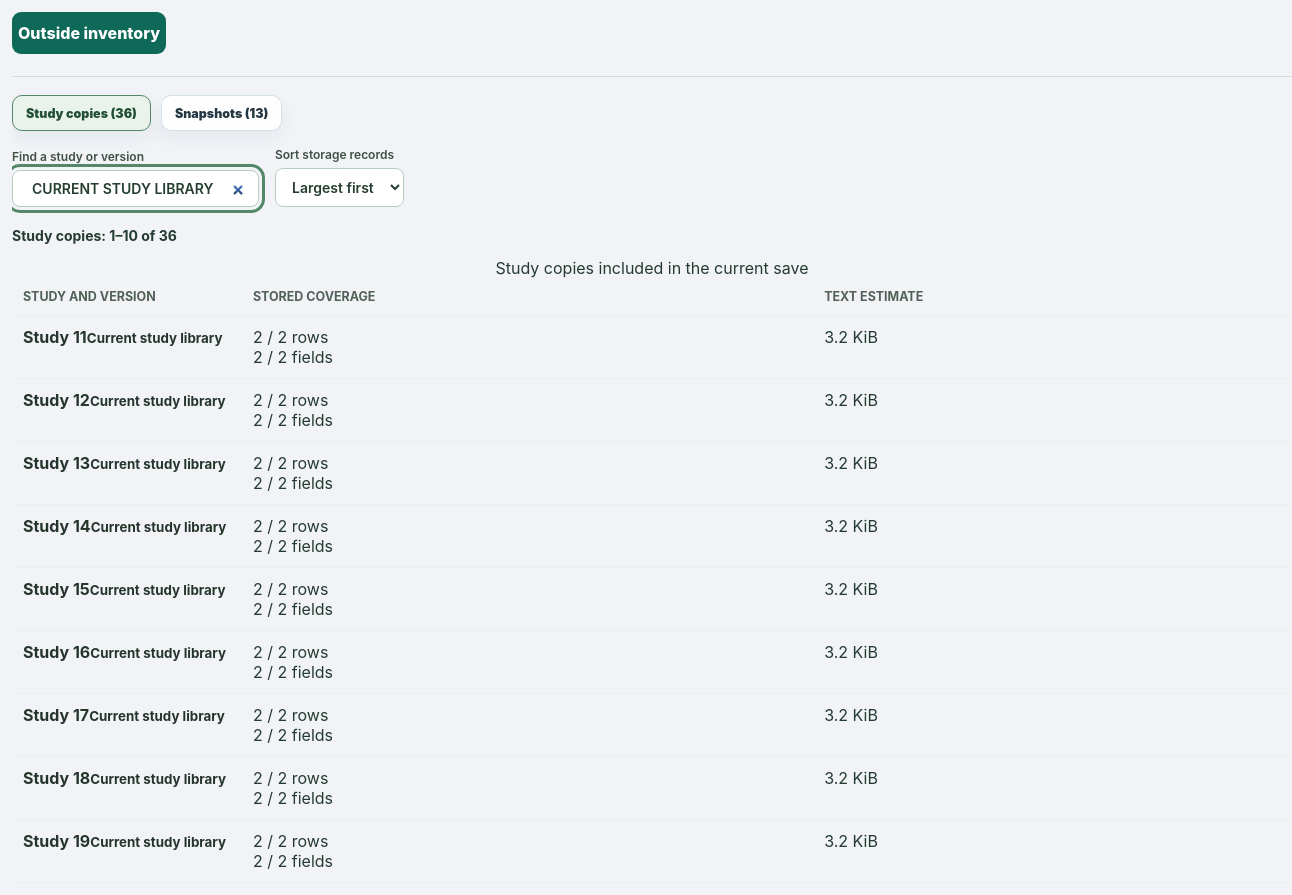
Test: filters by visible scope and pages through all current studies
This screenshot has width=1292, height=895.
Later steps or results of the test are not shown.
Replace the text in the search field labelled "Find a study or version" with "  CURRENT STUDY LIBRARY  ": (136, 188) [12, 170, 259, 207]
(page scrolled)
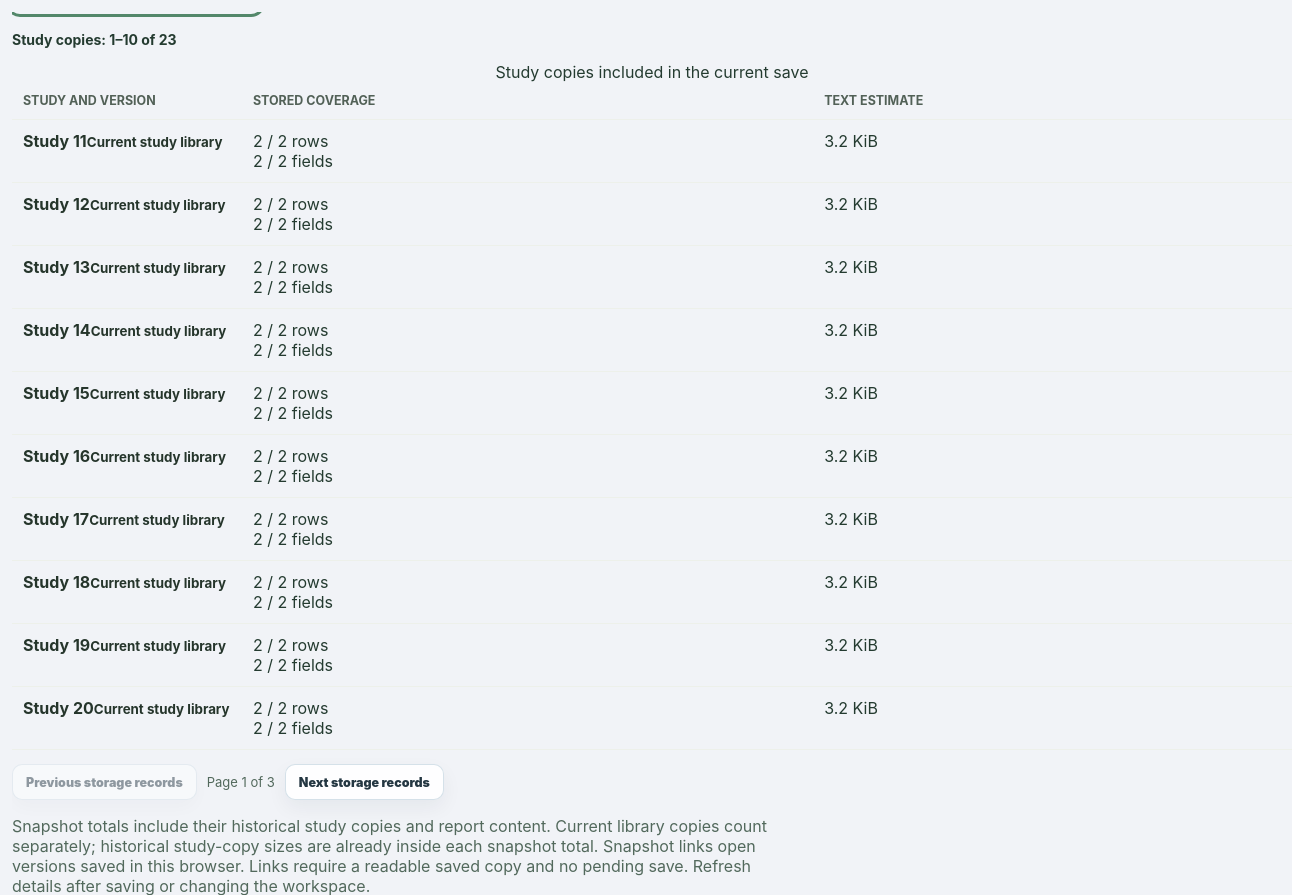
Expected: the heading "Study copies: 1–10 of 23" is shown, [12, 31, 176, 48]
Click the button "Next storage records": (364, 782) [285, 764, 444, 800]
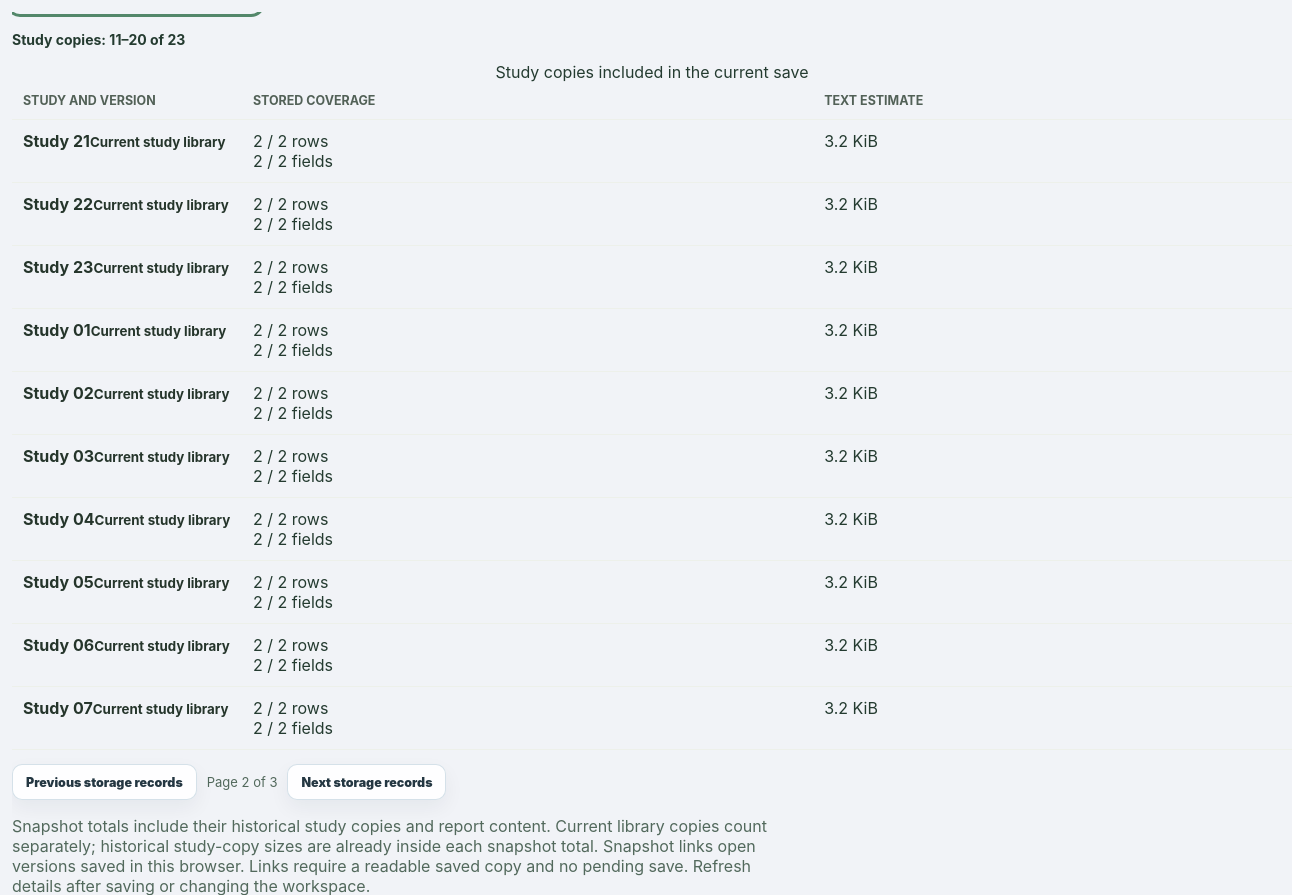
Expected: the heading "Study copies: 11–20 of 23" is shown, [12, 31, 185, 48]
Click the button "Next storage records": (367, 782) [288, 764, 446, 800]
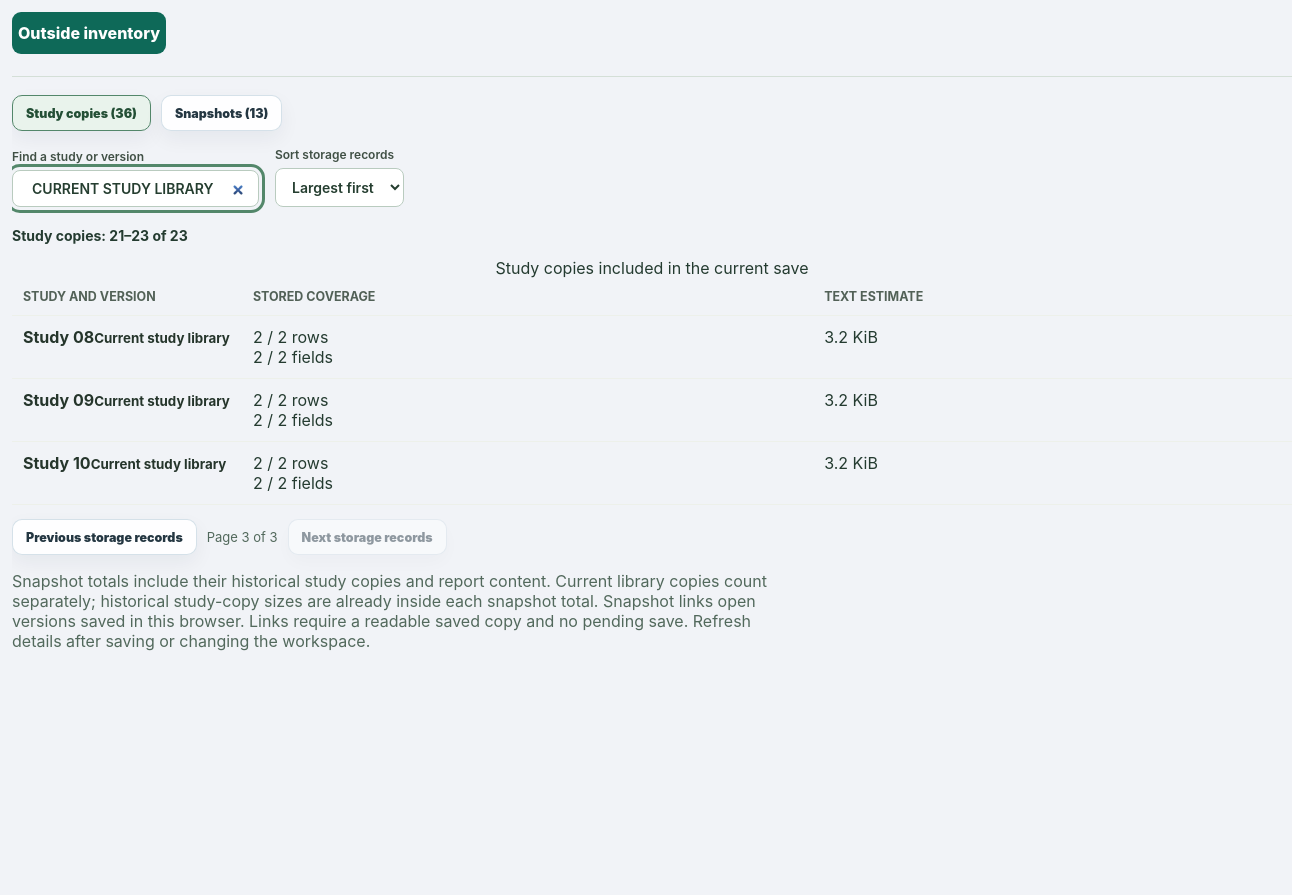
Expected: the button "Next storage records" is disabled, [288, 519, 446, 555]
